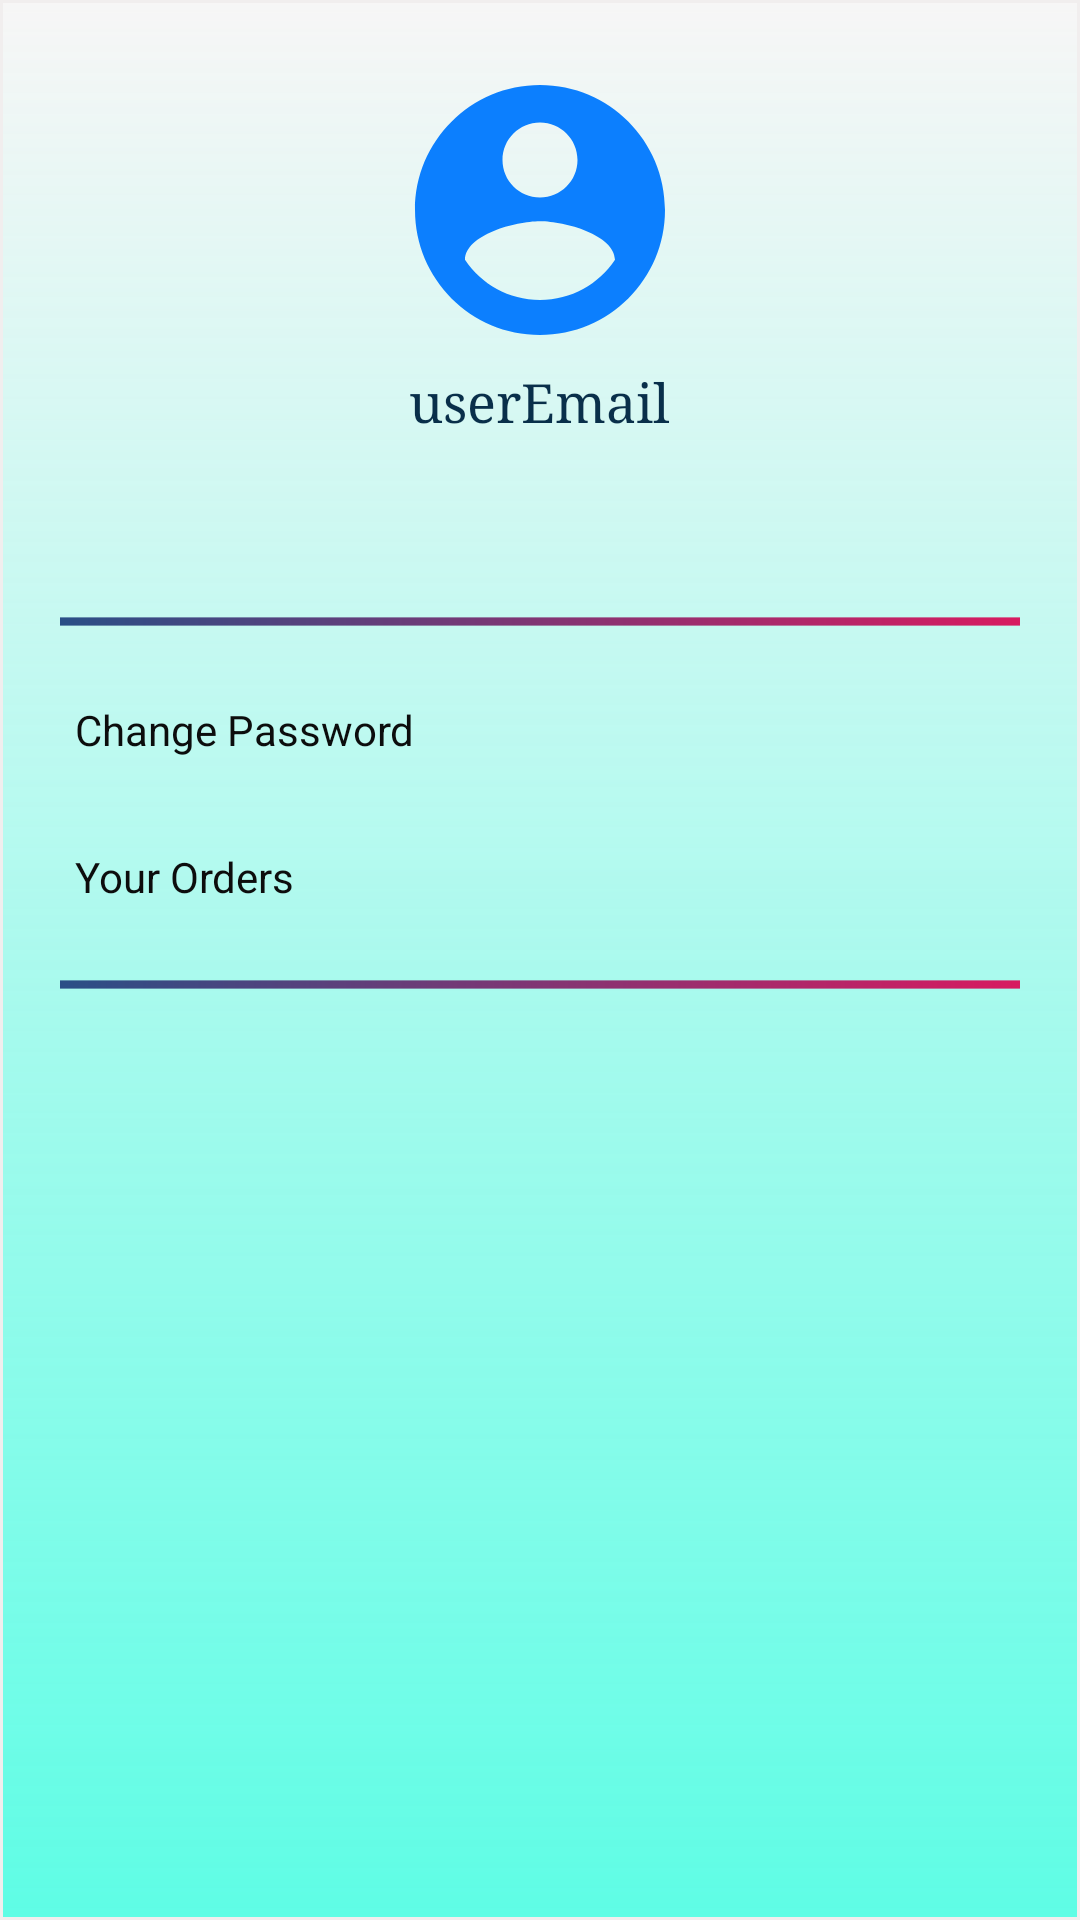

Screen size 1080w x 1920h. Icon name, then its center in pixels as (x,y):
account circle: (540,210)
